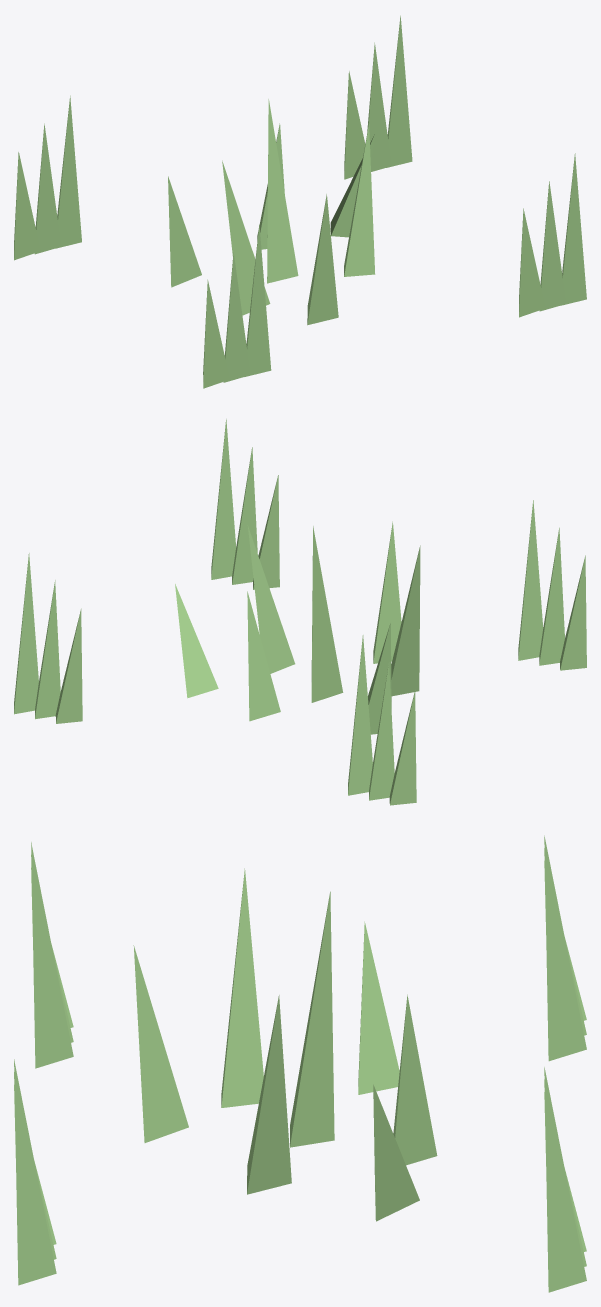
File: grass_tuft.glb
The picture shows the model from 3 angles, top to bottom: view 1: azimuth 30°, elevation 25°; view 2: azimuth 150°, elevation 25°; view 3: azimuth 270°, elevation 25°; orthographic projection. The views are drawn at different scales.
Visible parts, largest first — view 1: grass_tuft; view 2: grass_tuft; view 3: grass_tuft.
Boxes of the visible parts, box(x1,y1,x2,y2) form: grass_tuft: box(14, 15, 586, 388); grass_tuft: box(14, 419, 586, 805); grass_tuft: box(14, 835, 586, 1292).
Size of the model in its own units: 0.7718 by 0.3308 by 0.6699.
